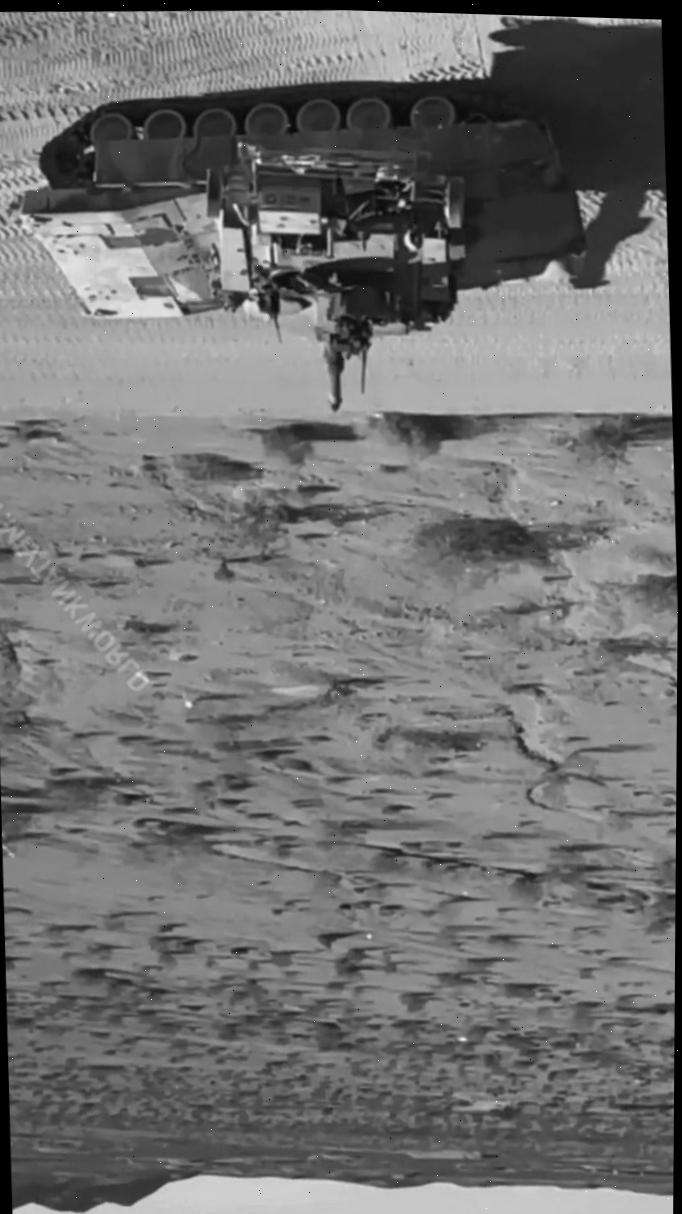tank: (6, 63, 596, 439)
